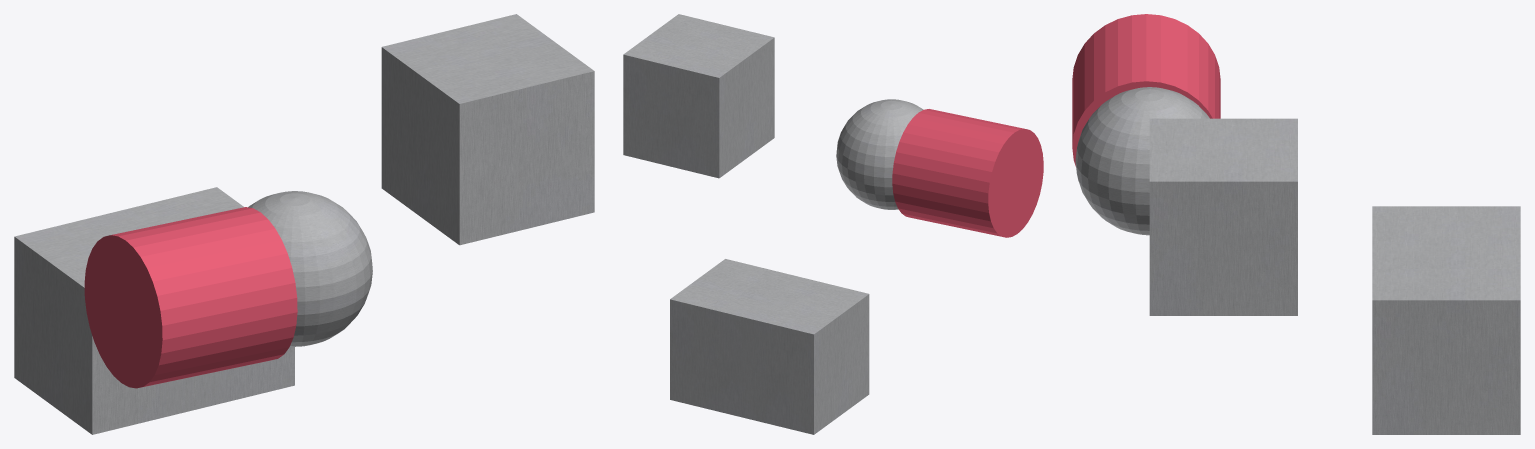
3 renders of one model, left to right at view 1: azimuth 30°, elevation 25°; view 2: azimuth 150°, elevation 25°; view 3: azimuth 270°, elevation 25°, orthographic. The views are drawn at different scales.
Visible parts, largest first — view 1: Cube.001, Cylinder, Cube; view 2: Cube, Cube.001, Cylinder; view 3: Cube.001, Cube, Cylinder.
Part boxes in pixels (x1=…): Cube.001: x1=248, y1=14, x2=594, y2=346; Cylinder: x1=84, y1=207, x2=297, y2=388; Cube: x1=14, y1=187, x2=294, y2=434; Cube: x1=670, y1=259, x2=869, y2=434; Cube.001: x1=623, y1=14, x2=923, y2=209; Cylinder: x1=892, y1=109, x2=1043, y2=237; Cube.001: x1=1075, y1=87, x2=1297, y2=315; Cube: x1=1372, y1=206, x2=1520, y2=434; Cylinder: x1=1072, y1=14, x2=1220, y2=166.
Bounding box in the file's own units: 7.03 × 5.03 × 6.04.
2 materials, 1 textured.
